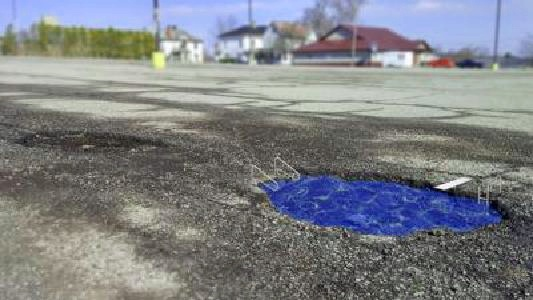pothole: (254, 165, 510, 234), (15, 127, 169, 153)
